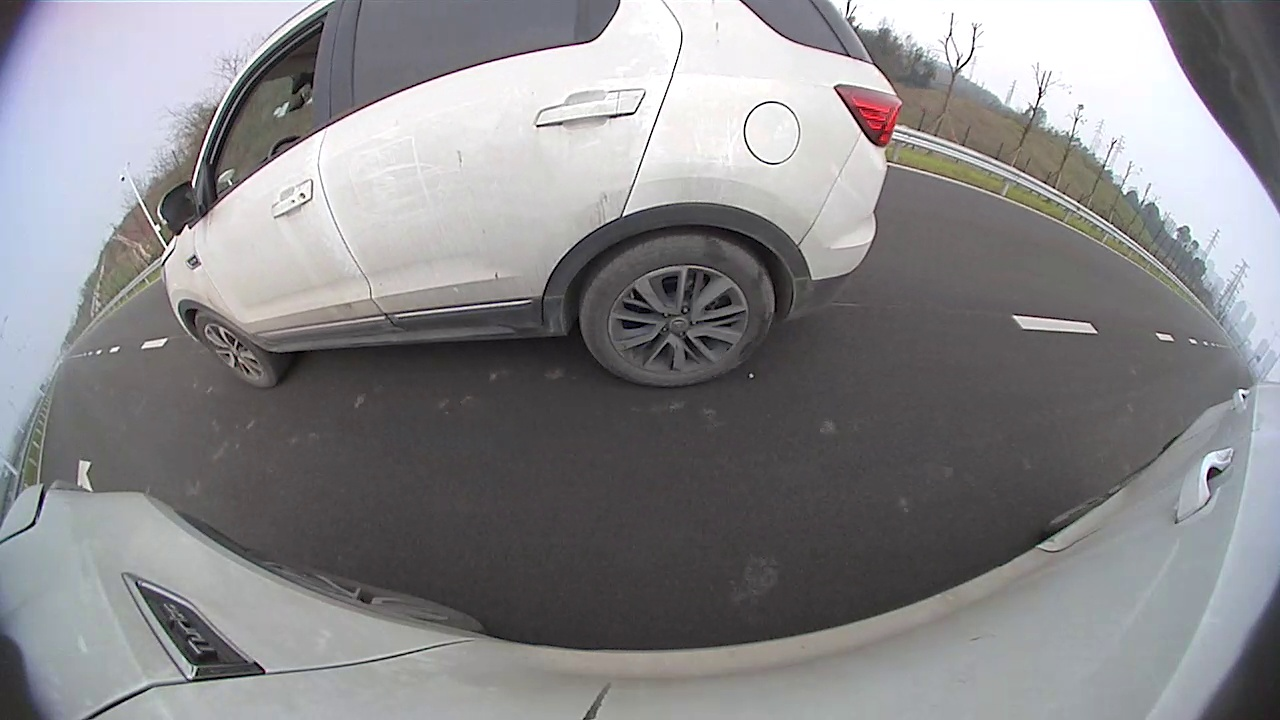car: (158, 1, 904, 388)
front: (196, 312, 278, 387)
rear: (582, 235, 775, 386)
